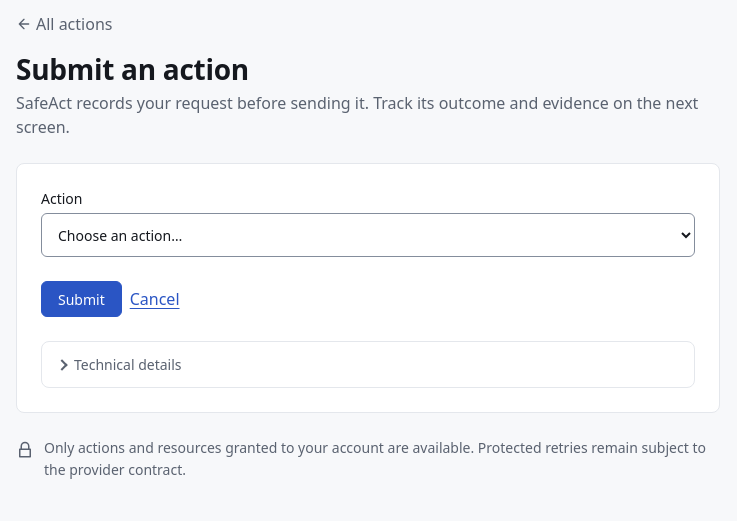
Test: submit form › validates before sending and names the problem
Click the button "Submit": (81, 299) [41,281,122,317]
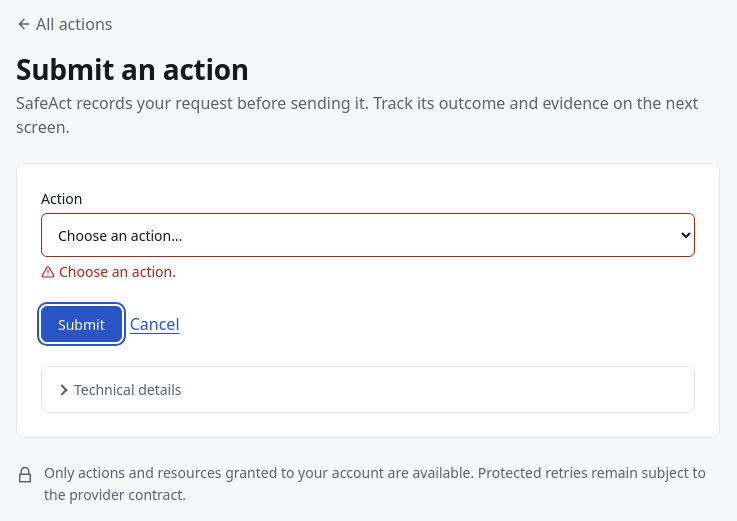
Expected: the text "Choose an action." is shown, [41,262,176,281]
